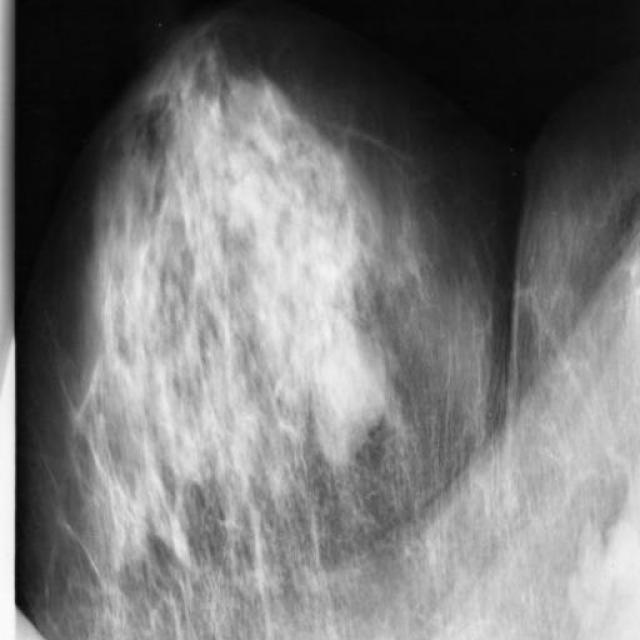cancer: (322, 200, 379, 296)
